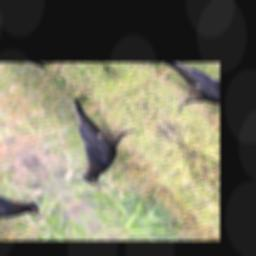Crow: (26, 86, 168, 194)
